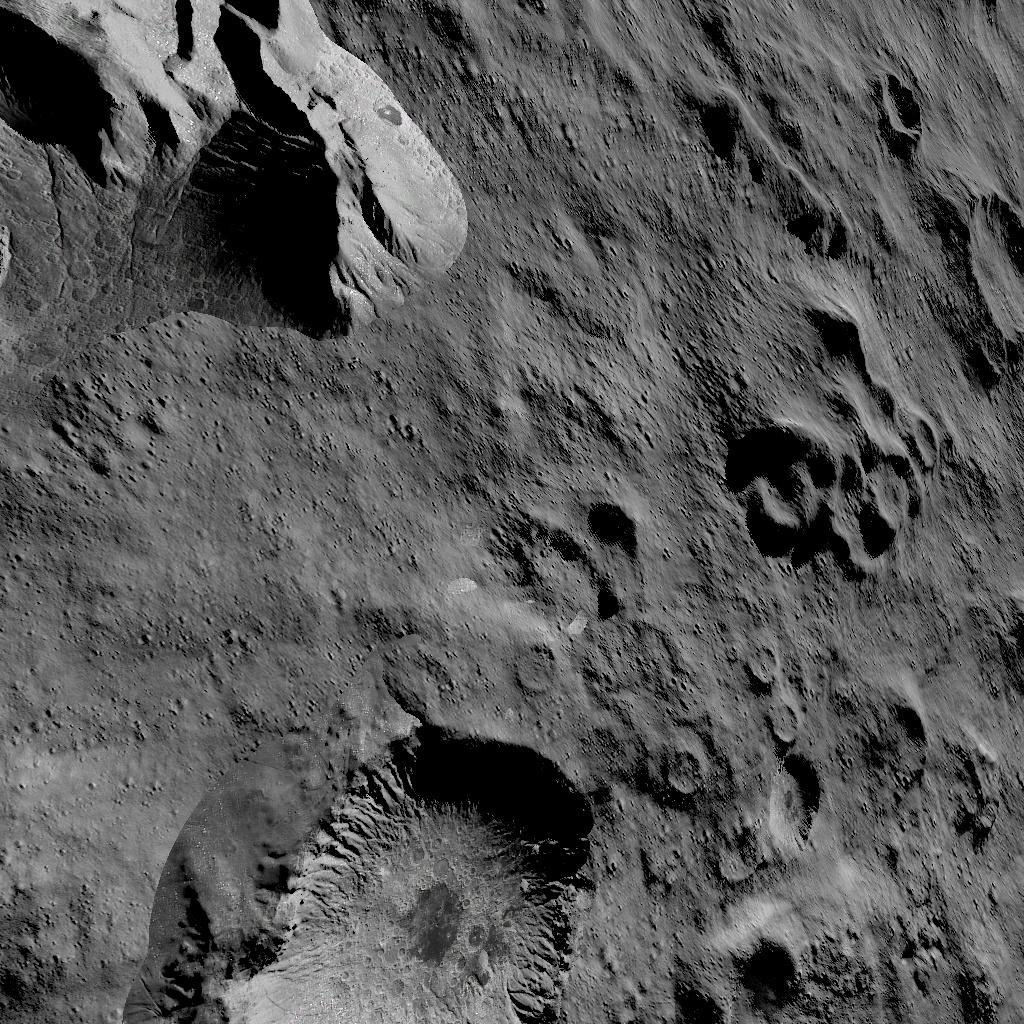Boulders: (1, 0, 472, 427)
Crater: (162, 716, 622, 1024), (730, 302, 950, 570), (747, 638, 842, 870), (539, 504, 668, 625), (681, 924, 834, 1024), (964, 170, 1024, 361), (884, 697, 954, 814), (868, 62, 936, 153), (517, 642, 575, 698), (673, 750, 728, 806)
Plan surface: (1, 464, 504, 704), (518, 0, 717, 489), (3, 710, 146, 1024)
